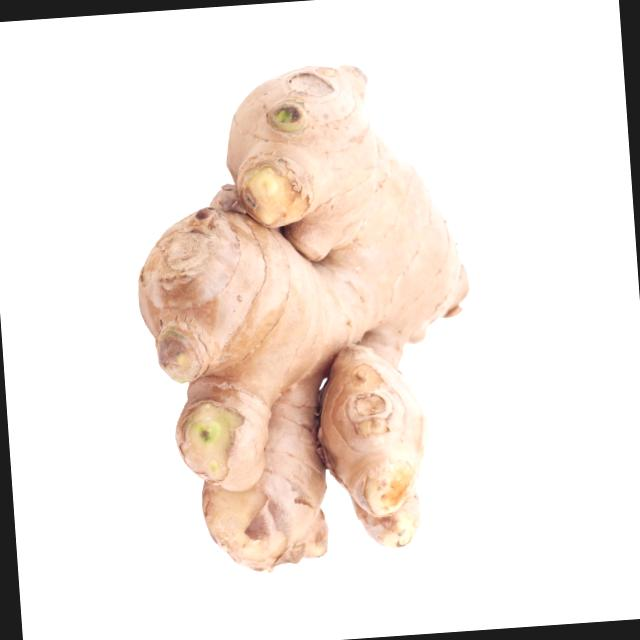ginger-root: (105, 26, 505, 636)
